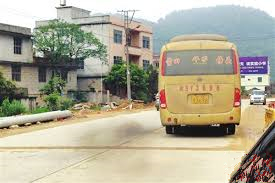smoke: (95, 113, 161, 144)
